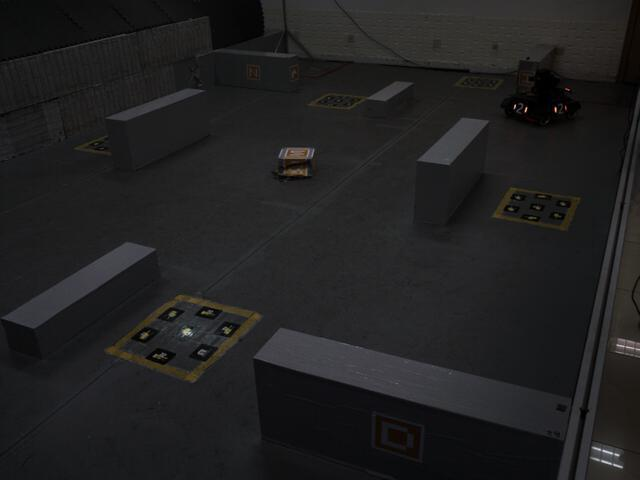armor: (548, 100, 572, 118), (509, 99, 530, 118)
